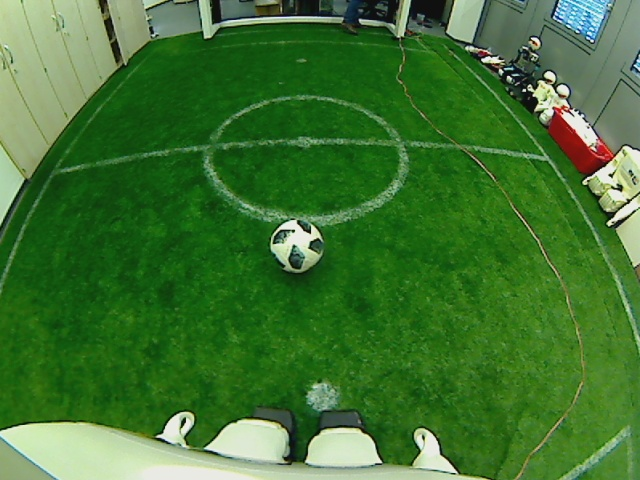ball: (267, 216, 326, 273)
